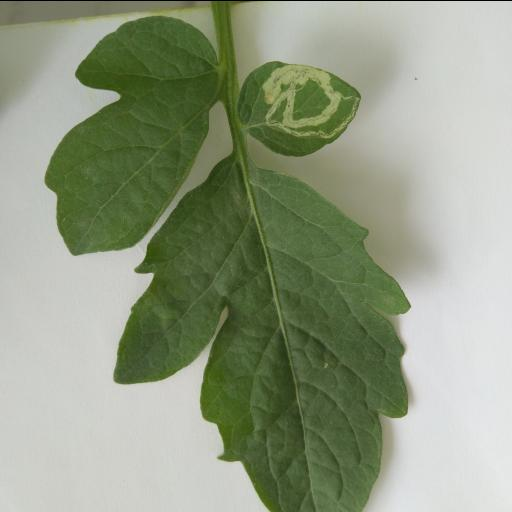disease_tomato: (240, 59, 362, 159)
